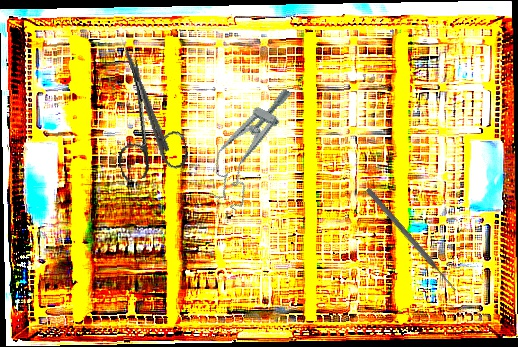Iris Scissors: (96, 50, 192, 183)
Pusher: (364, 186, 459, 294), (115, 28, 172, 153)
Speculum: (197, 75, 301, 213)
